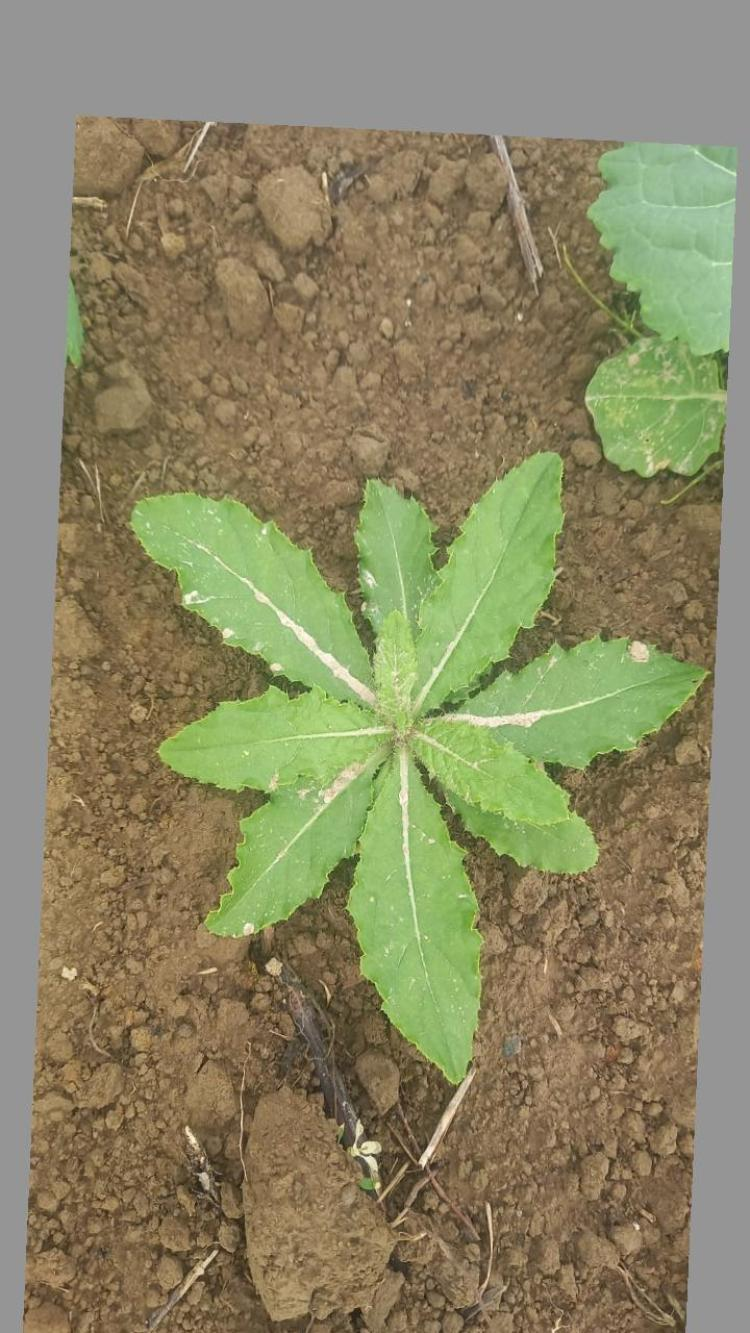osot: (123, 444, 710, 1089)
